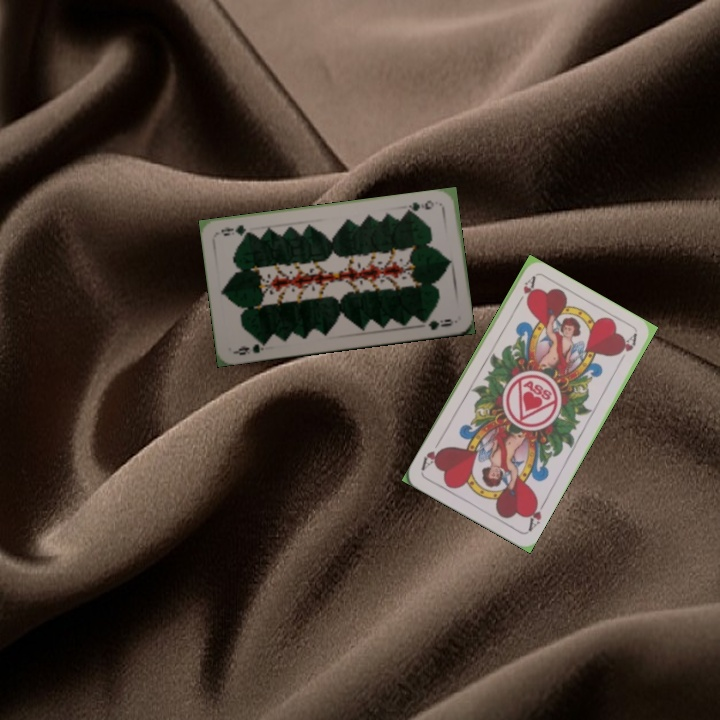G9: (230, 337, 270, 358), (402, 196, 436, 216)
HA: (511, 273, 538, 311), (523, 495, 549, 534)
